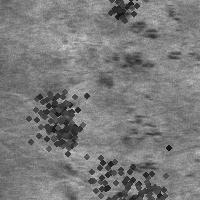rolled-in_scale: (94, 4, 168, 88), (25, 94, 97, 166), (20, 74, 92, 146), (77, 139, 157, 200), (117, 97, 164, 198), (100, 152, 190, 200), (92, 0, 142, 28)
